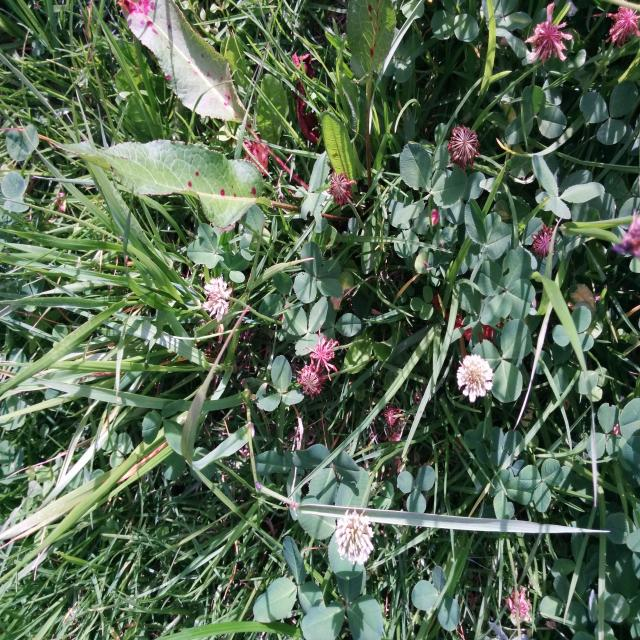Four Leaf Clover: (474, 247, 536, 326), (293, 242, 343, 302)
